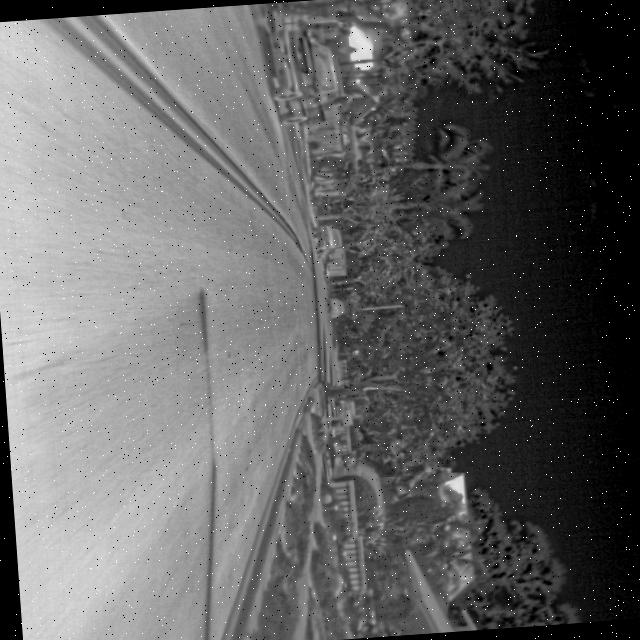Vehicle: (257, 20, 342, 129), (311, 221, 345, 257), (322, 293, 348, 320)
